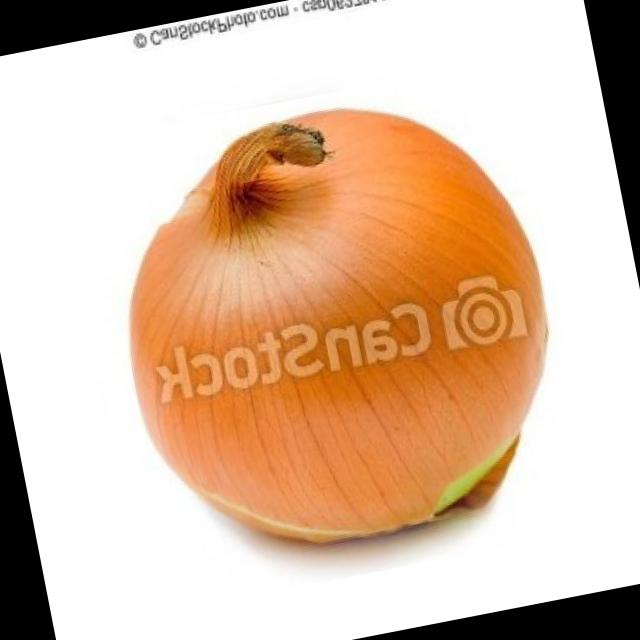Onion: (56, 57, 603, 617)
